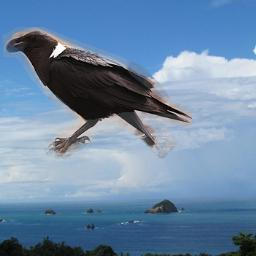Crow: (3, 27, 192, 159)
